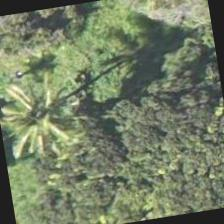Kelapa_Sawit: (0, 62, 94, 166)
